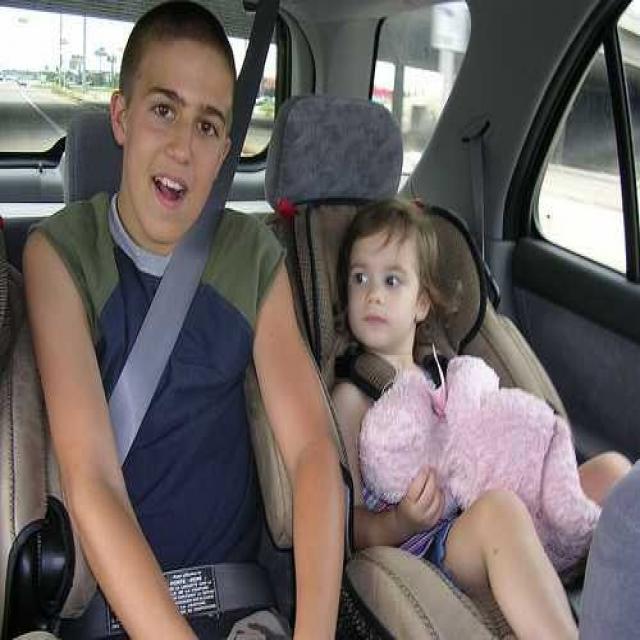seatbelt: (22, 17, 288, 579), (465, 102, 498, 263)
